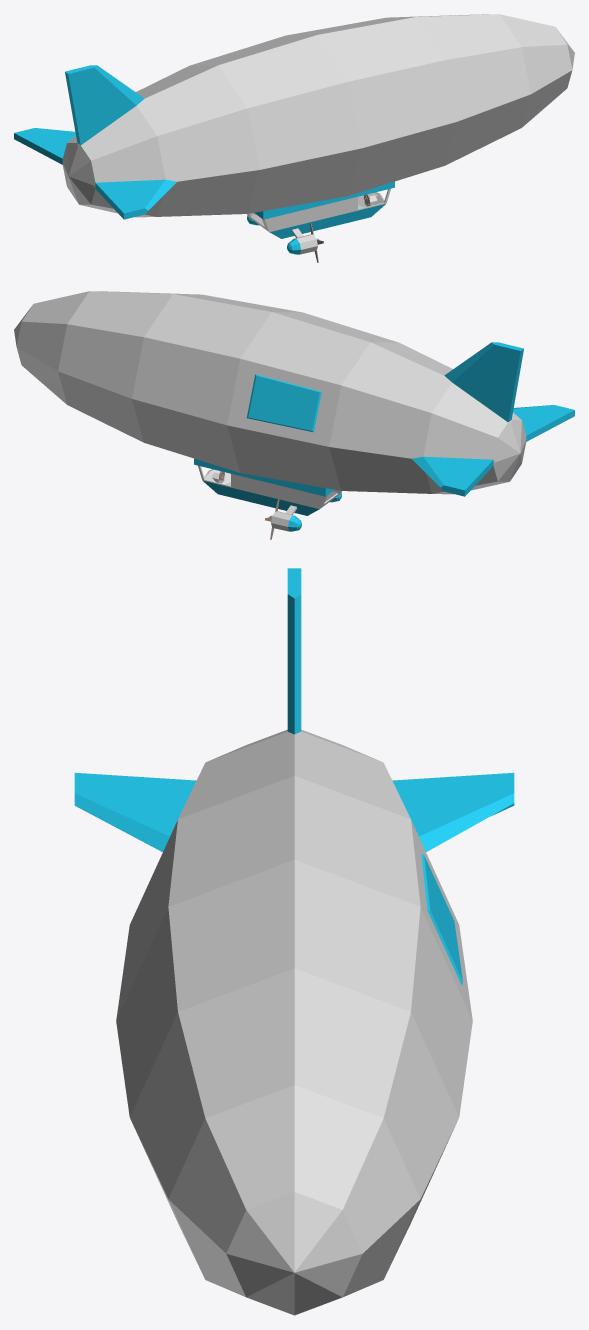
The model's file is blimp-02.glb.
3 views of the same model, one above another, from view 1: azimuth 30°, elevation 25°; view 2: azimuth 150°, elevation 25°; view 3: azimuth 270°, elevation 25° (orthographic). The views are drawn at different scales.
Parts seen in each view (by area): view 1: Circle.015_Circle.016; view 2: Circle.015_Circle.016; view 3: Circle.015_Circle.016.
Boxes of the visible parts, x1=… form: Circle.015_Circle.016: x1=14, y1=14, x2=574, y2=262; Circle.015_Circle.016: x1=14, y1=291, x2=574, y2=539; Circle.015_Circle.016: x1=74, y1=568, x2=514, y2=1315.
Size of the model in its own units: 25.72 by 11.03 by 9.64.
